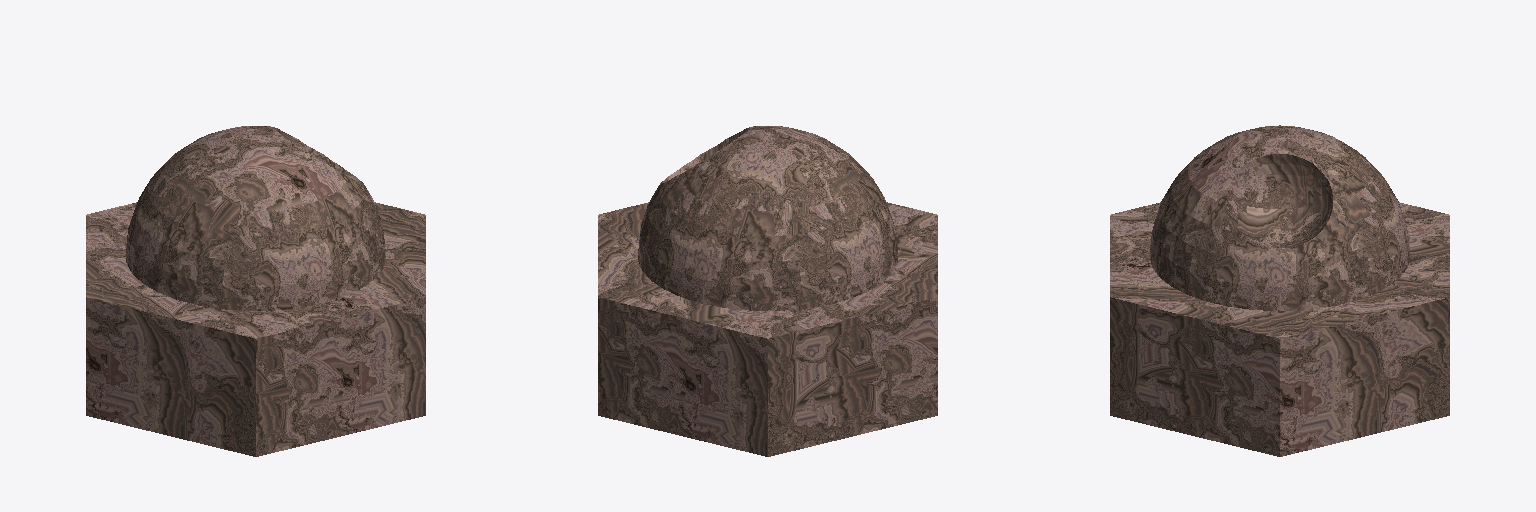
3 renders of one model, left to right at view 1: azimuth 30°, elevation 25°; view 2: azimuth 150°, elevation 25°; view 3: azimuth 270°, elevation 25°, orthographic.
Visible parts, largest first — view 1: Cylinder001; view 2: Cylinder001; view 3: Cylinder001.
Part boxes in pixels (left/top/right/bottom): Cylinder001: left=86, top=126, right=425, bottom=456; Cylinder001: left=598, top=126, right=937, bottom=456; Cylinder001: left=1110, top=125, right=1449, bottom=456.
Size of the model in its own units: 3 by 2 by 2.6.
1 materials, 1 textured.